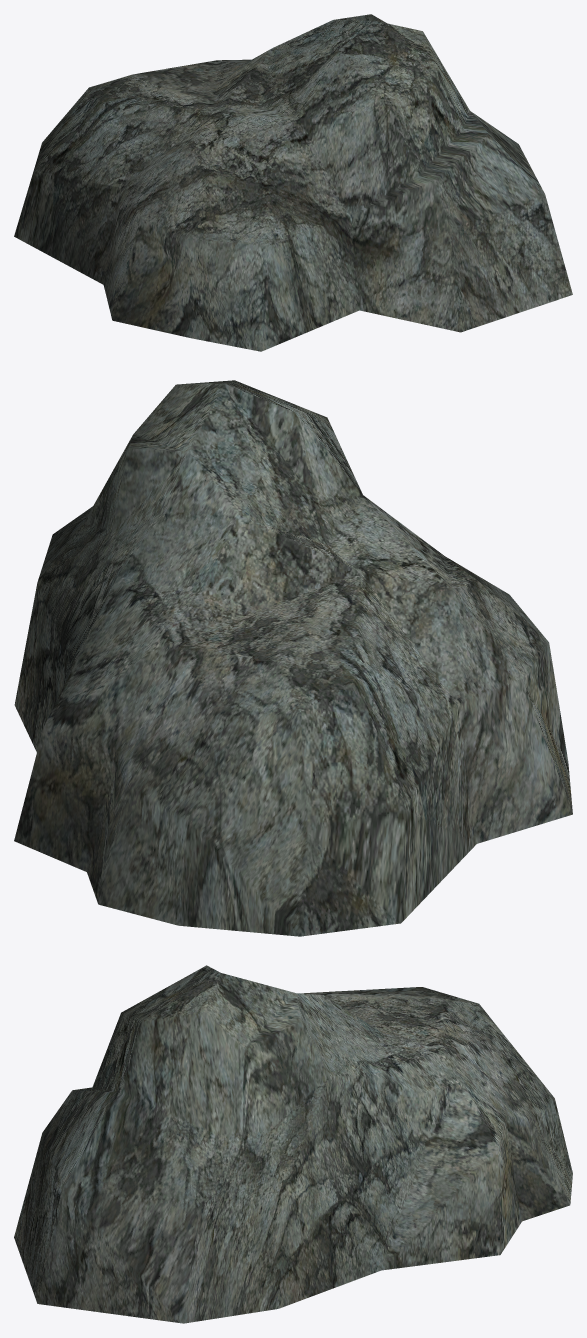
Rendered from thing_rock00.fbx.
3 renders of one model, top to bottom at view 1: azimuth 30°, elevation 25°; view 2: azimuth 150°, elevation 25°; view 3: azimuth 270°, elevation 25°, orthographic. The views are drawn at different scales.
Visible parts, largest first — view 1: objStaticMeshActor_353; view 2: objStaticMeshActor_353; view 3: objStaticMeshActor_353.
Part boxes in pixels (bbox=[...]): objStaticMeshActor_353: bbox=[14, 14, 572, 351]; objStaticMeshActor_353: bbox=[14, 380, 572, 936]; objStaticMeshActor_353: bbox=[14, 965, 572, 1323].
Bounding box in the file's own units: 32.35 × 18.39 × 34.64.
